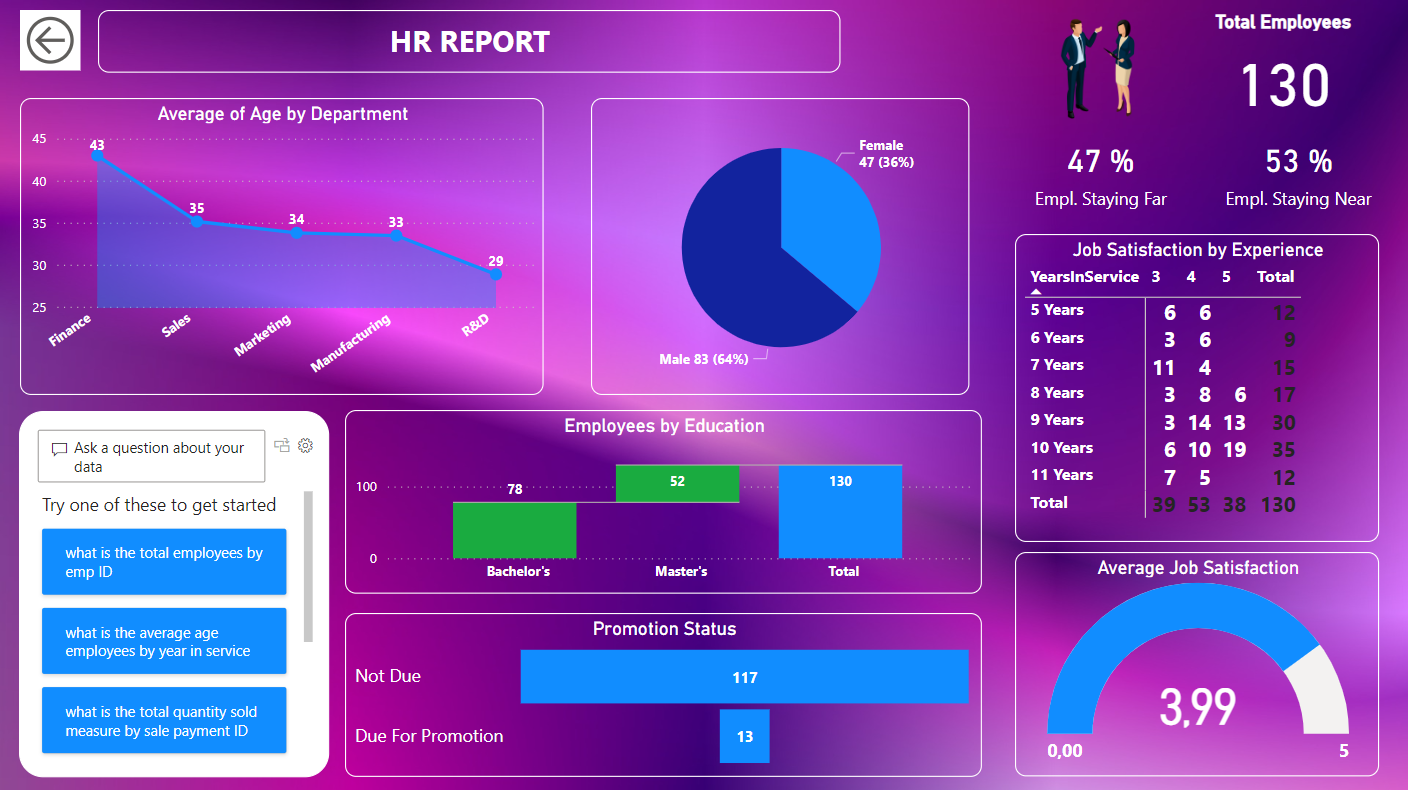

Layout of this report page (visuals, bound fields, positions):
{"tool":"powerbi","page":{"name":"HR","canvas":[1280,720],"ordinal":1},"visuals":[{"type":"textbox","box":[88.8,10.4,674.5,56.9],"z":0},{"type":"actionButton","box":[18.1,10.4,55,55],"z":1000},{"type":"areaChart","fields":{"Category":["HR.Department"],"Y":["Avg(HR.Age)"]},"box":[18,90,476,270],"z":2000},{"type":"pieChart","fields":{"Series":["HR.Gender"],"Y":["HR.TotalEmployees"]},"box":[537,90,344,270],"z":3000},{"type":"image","box":[931,9,139,109],"z":4000},{"type":"card","title":"Total Employees","fields":{"Values":["HR.TotalEmployees"]},"box":[1089,10,155,108],"z":5000},{"type":"card","fields":{"Values":["HR.%DistanceFar"]},"box":[923,118,156,81],"z":6000},{"type":"card","fields":{"Values":["HR.%DistanceNear"]},"box":[1106,118,148,81],"z":7000},{"type":"pivotTable","title":"Job Satisfaction by Experience","fields":{"Rows":["HR.YearsInService"],"Columns":["HR.JobSatisfation"],"Values":["HR.TotalEmployees"]},"box":[923,214,331,280],"z":8000},{"type":"gauge","title":"Average Job Satisfaction","fields":{"Y":["HR.AverageJobSatisfaction"],"MaxValue":["Max(HR.JobSatisfation)"]},"box":[923,503,331,204],"z":9000},{"type":"waterfallChart","title":"Employees by Education","fields":{"Category":["HR.Education"],"Y":["HR.TotalEmployees"]},"box":[314,374,579,167],"z":10000},{"type":"funnel","title":"Promotion Status","fields":{"Category":["HR.PromotionStatus"],"Y":["HR.TotalEmployees"]},"box":[314,558,579,149],"z":11000},{"type":"qnaVisual","box":[17.7,374.1,281.7,333.1],"z":12000}]}

Visuals, with their boxes in screenshot pixels (x1, y1, x2, y2), scaled from the page's 1280x720 canvas onto the 1408x790 screenshot:
textbox: 98 11 840 74
actionButton: 20 11 80 72
areaChart - HR.Department x Avg(HR.Age): 20 99 543 395
pieChart - HR.Gender x HR.TotalEmployees: 591 99 969 395
image: 1024 10 1177 129
"Total Employees" card: 1198 11 1368 129
card - HR.%DistanceFar: 1015 129 1187 218
card - HR.%DistanceNear: 1217 129 1379 218
"Job Satisfaction by Experience" pivotTable: 1015 235 1379 542
"Average Job Satisfaction" gauge: 1015 552 1379 776
"Employees by Education" waterfallChart: 345 410 982 594
"Promotion Status" funnel: 345 612 982 776
qnaVisual: 19 410 329 776
